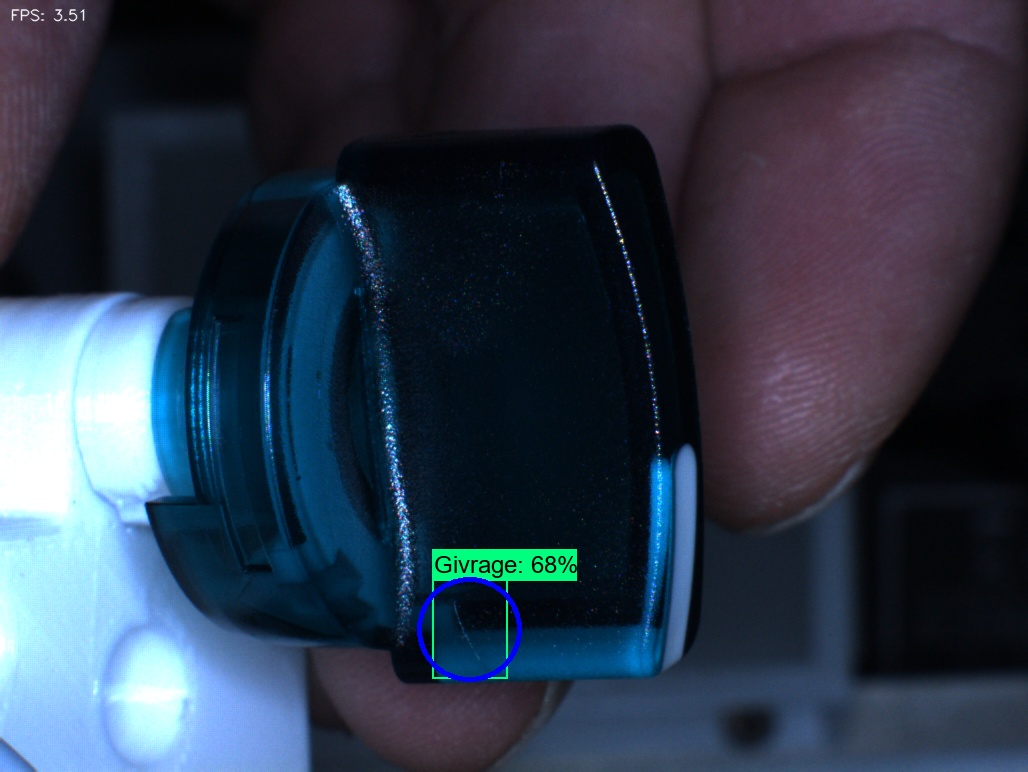PointNoir: (283, 341, 358, 412)
